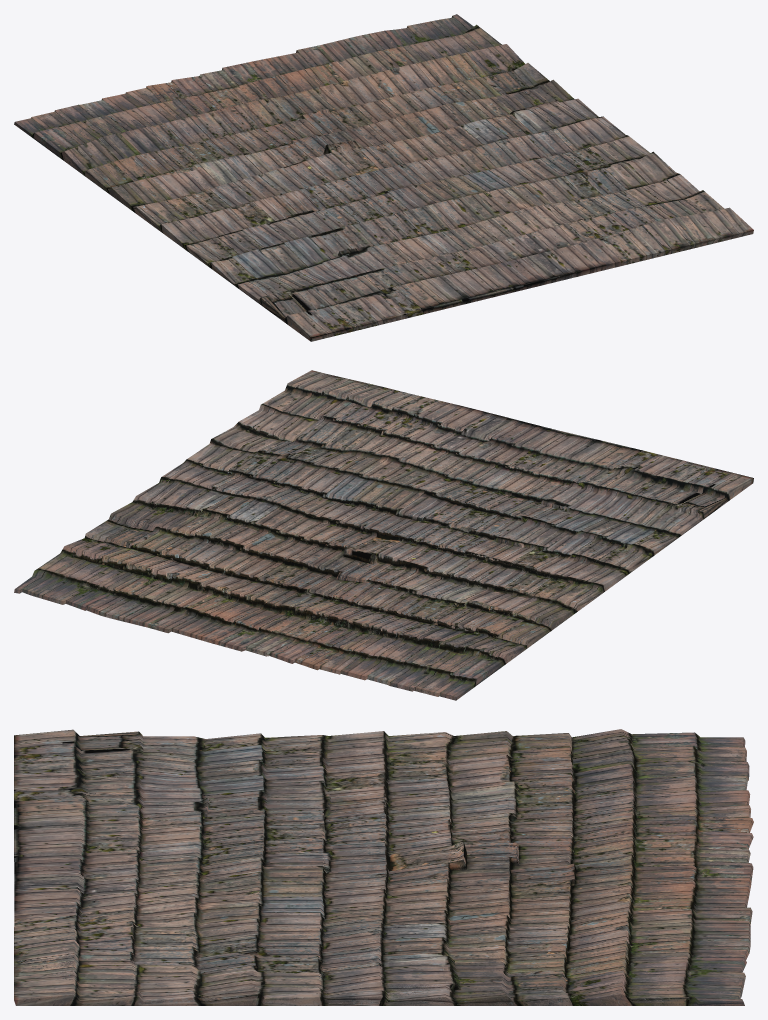
File: SM_OldCeramicRoofTiles_01_01.fbx
The picture shows the model from 3 angles, top to bottom: view 1: azimuth 30°, elevation 25°; view 2: azimuth 150°, elevation 25°; view 3: azimuth 270°, elevation 25°; orthographic projection. The views are drawn at different scales.
Visible parts, largest first — view 1: sm_OldCeramicRoofTiles_01_01_LOD0; view 2: sm_OldCeramicRoofTiles_01_01_LOD0; view 3: sm_OldCeramicRoofTiles_01_01_LOD0.
Part boxes in pixels (left/top/right/bottom): sm_OldCeramicRoofTiles_01_01_LOD0: left=14, top=14, right=753, bottom=341; sm_OldCeramicRoofTiles_01_01_LOD0: left=14, top=370, right=753, bottom=700; sm_OldCeramicRoofTiles_01_01_LOD0: left=14, top=729, right=753, bottom=1005.
Size of the model in its own units: 708 by 600 by 20.02.
